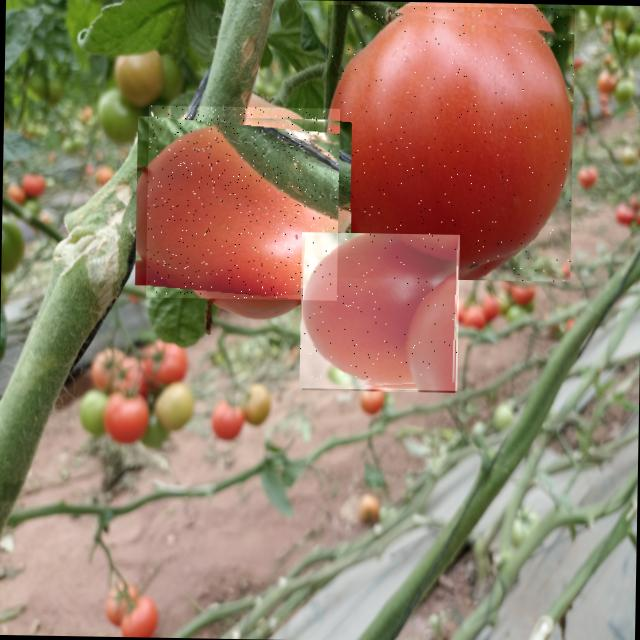Ripe Tomato: (322, 4, 574, 281), (146, 105, 340, 300), (298, 232, 460, 391)
